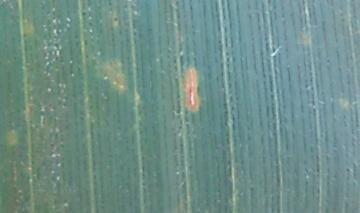tarspot: (80, 9, 87, 18), (112, 15, 119, 23), (105, 1, 113, 8), (48, 141, 55, 148), (248, 185, 255, 192), (87, 19, 93, 27), (344, 166, 350, 174), (351, 180, 357, 187), (83, 37, 88, 45)
